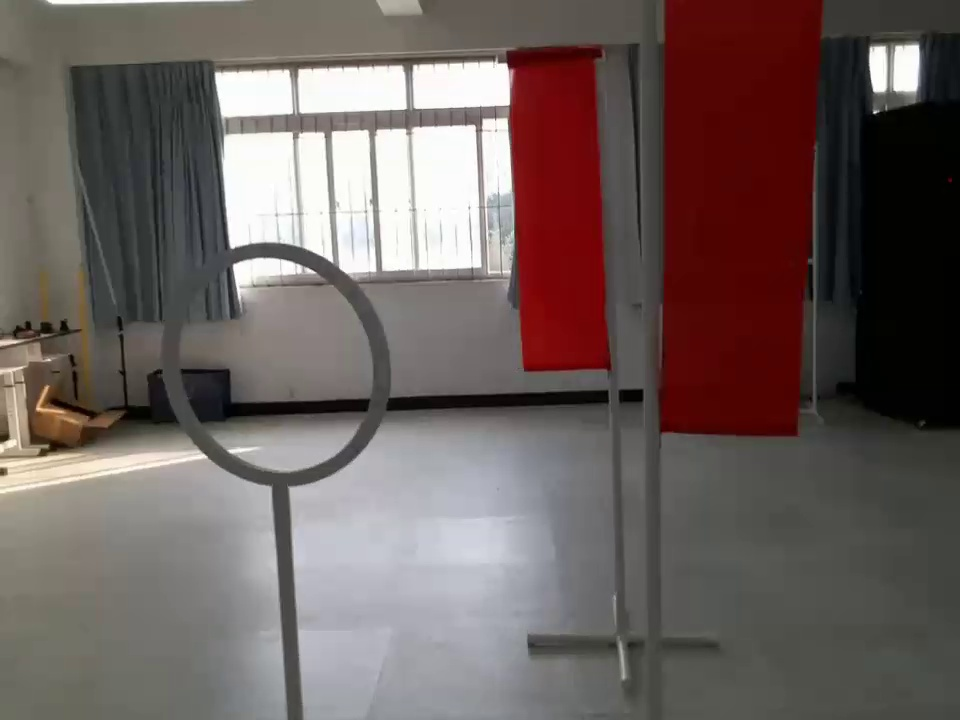qi: (644, 3, 824, 448), (504, 41, 621, 378)
quan: (153, 242, 395, 504)
